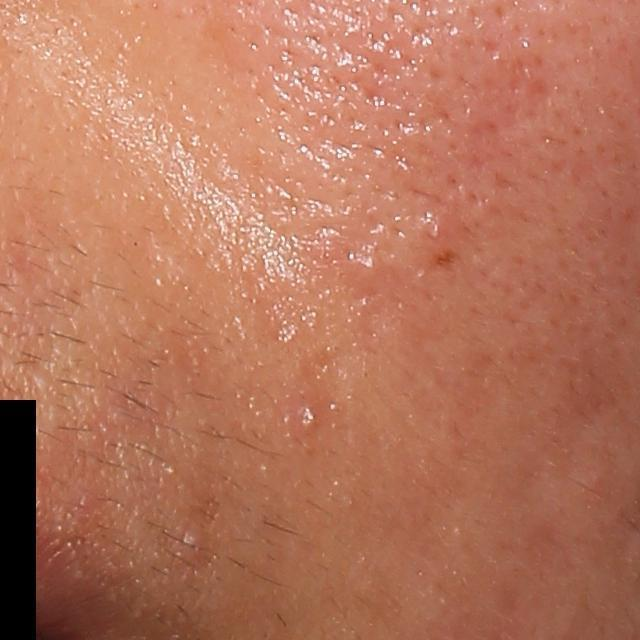comedo: (181, 526, 206, 556)
